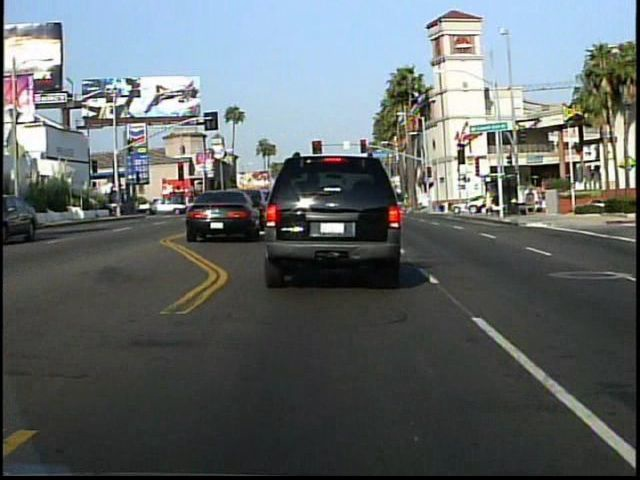person: (482, 187, 496, 218)
